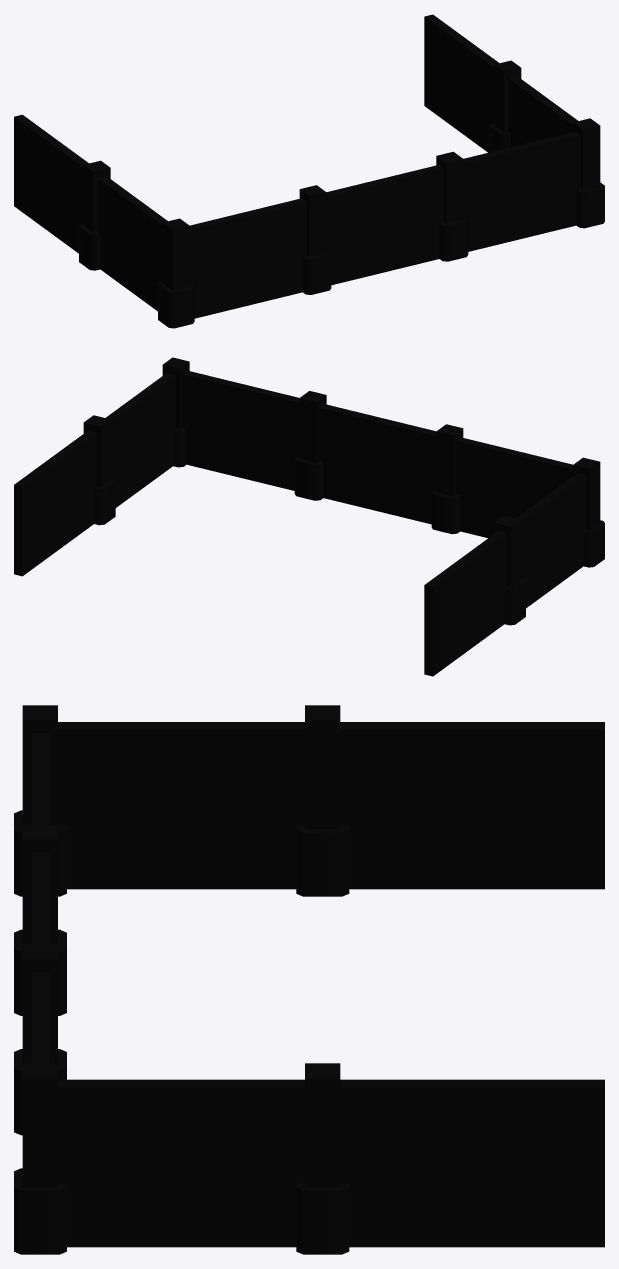
The model's file is fence-2x3.glb.
The picture shows the model from 3 angles, top to bottom: view 1: azimuth 30°, elevation 25°; view 2: azimuth 150°, elevation 25°; view 3: azimuth 270°, elevation 25°; orthographic projection. The views are drawn at different scales.
Visible parts, largest first — view 1: fence-2x3; view 2: fence-2x3; view 3: fence-2x3.
Boxes of the visible parts, x1,y1,x2,y2 form: fence-2x3: (14,14,604,328); fence-2x3: (14,357,604,676); fence-2x3: (14,705,604,1254).
Bounding box in the file's own units: 1.28 × 0.27 × 0.8374.
1 material, 1 textured.
